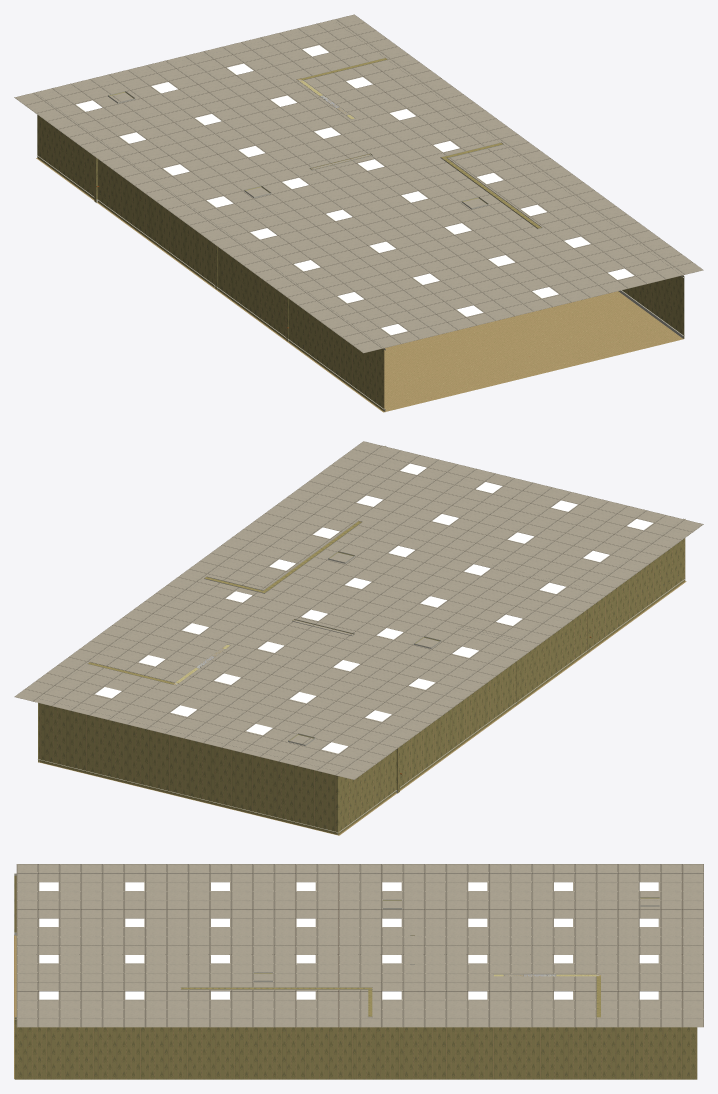
File: backrooms_layer_0.glb
3 renders of one model, top to bottom at view 1: azimuth 30°, elevation 25°; view 2: azimuth 150°, elevation 25°; view 3: azimuth 270°, elevation 25°, orthographic.
Visible parts, largest first — view 1: Ceiling.001_5, Floor.001_0, Wall (Connected).001_6, Light Panel.001_19, Wall (Connected).002_4, Wall_chunk.011_15; view 2: Ceiling.001_5, Wall (Connected).001_6, Light Panel.001_19, Floor.001_0, Wall_chunk.011_15; view 3: Ceiling.001_5, Wall (Connected).002_4, Light Panel.001_19, Wall_chunk.011_15, Wall_chunk.005_14.
Boxes of the visible parts, <box> form: Ceiling.001_5: <box>14,14,703,353</box>; Floor.001_0: <box>36,158,683,412</box>; Wall (Connected).001_6: <box>37,24,385,411</box>; Light Panel.001_19: <box>76,45,633,335</box>; Wall (Connected).002_4: <box>339,24,684,338</box>; Wall_chunk.011_15: <box>440,142,542,229</box>; Ceiling.001_5: <box>14,441,703,779</box>; Wall (Connected).001_6: <box>38,518,685,835</box>; Light Panel.001_19: <box>95,463,652,753</box>; Floor.001_0: <box>38,581,686,835</box>; Wall_chunk.011_15: <box>204,520,362,593</box>; Ceiling.001_5: <box>16,864,703,1027</box>; Wall (Connected).002_4: <box>14,1017,697,1079</box>; Light Panel.001_19: <box>39,882,658,999</box>; Wall_chunk.011_15: <box>180,987,372,1017</box>; Wall_chunk.005_14: <box>493,974,600,1017</box>.
Bounding box in the file's own units: 11.31 × 2.1 × 20.19.
Materials: 2 (1 with a texture image).
